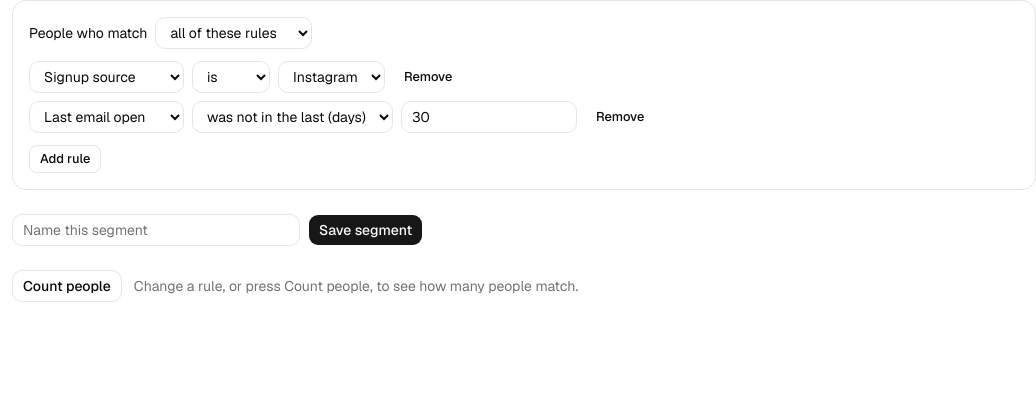
Test case: SegmentBuilder › counts again when a rule's value changes
The image size is (1036, 393).
Select "Facebook" in the dropdown named "Rule 1 value" at (332, 77), box [278,61,385,93]
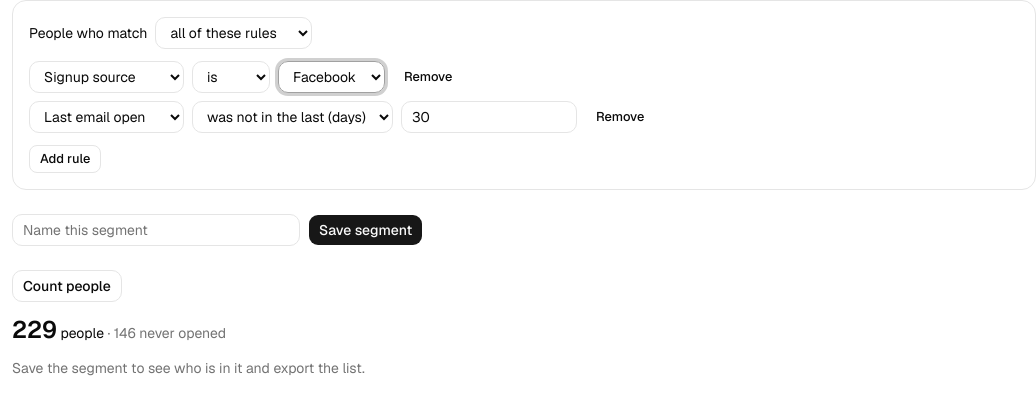
Now the text "229" is shown, box [12,314,57,345]
